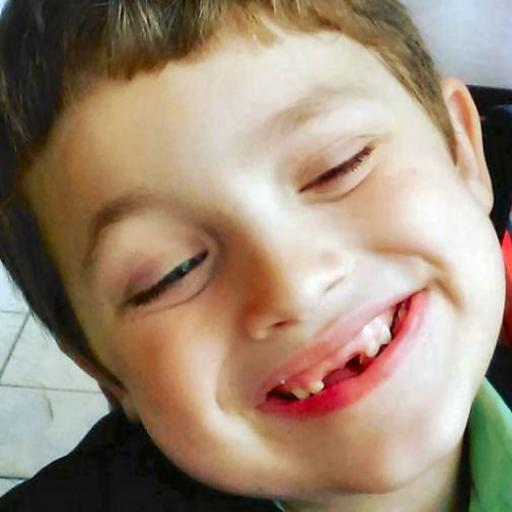Autism: (8, 6, 512, 500)
